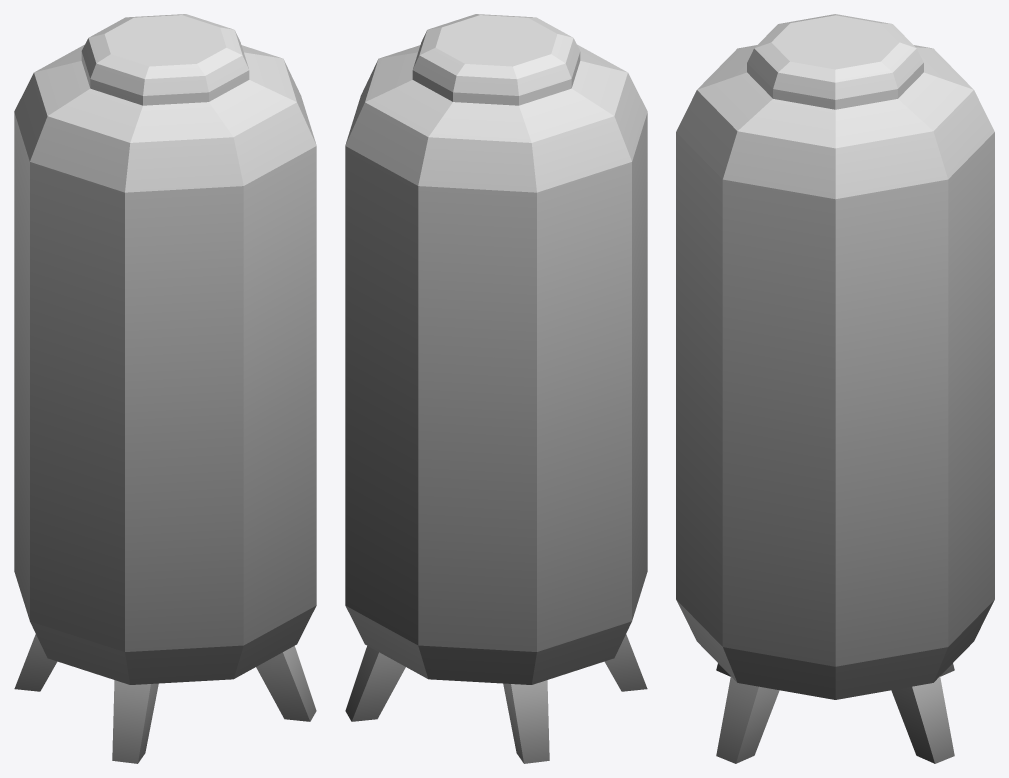
File: big cistern.fbx
3 renders of one model, left to right at view 1: azimuth 30°, elevation 25°; view 2: azimuth 150°, elevation 25°; view 3: azimuth 270°, elevation 25°, orthographic.
Visible parts, largest first — view 1: big_cistern; view 2: big_cistern; view 3: big_cistern.
Part boxes in pixels (bbox=[...]): big_cistern: bbox=[14, 14, 316, 763]; big_cistern: bbox=[345, 14, 647, 763]; big_cistern: bbox=[676, 14, 994, 763].
Bounding box in the file's own units: 326 × 758 × 326.
Materials: 1 (1 with a texture image).
